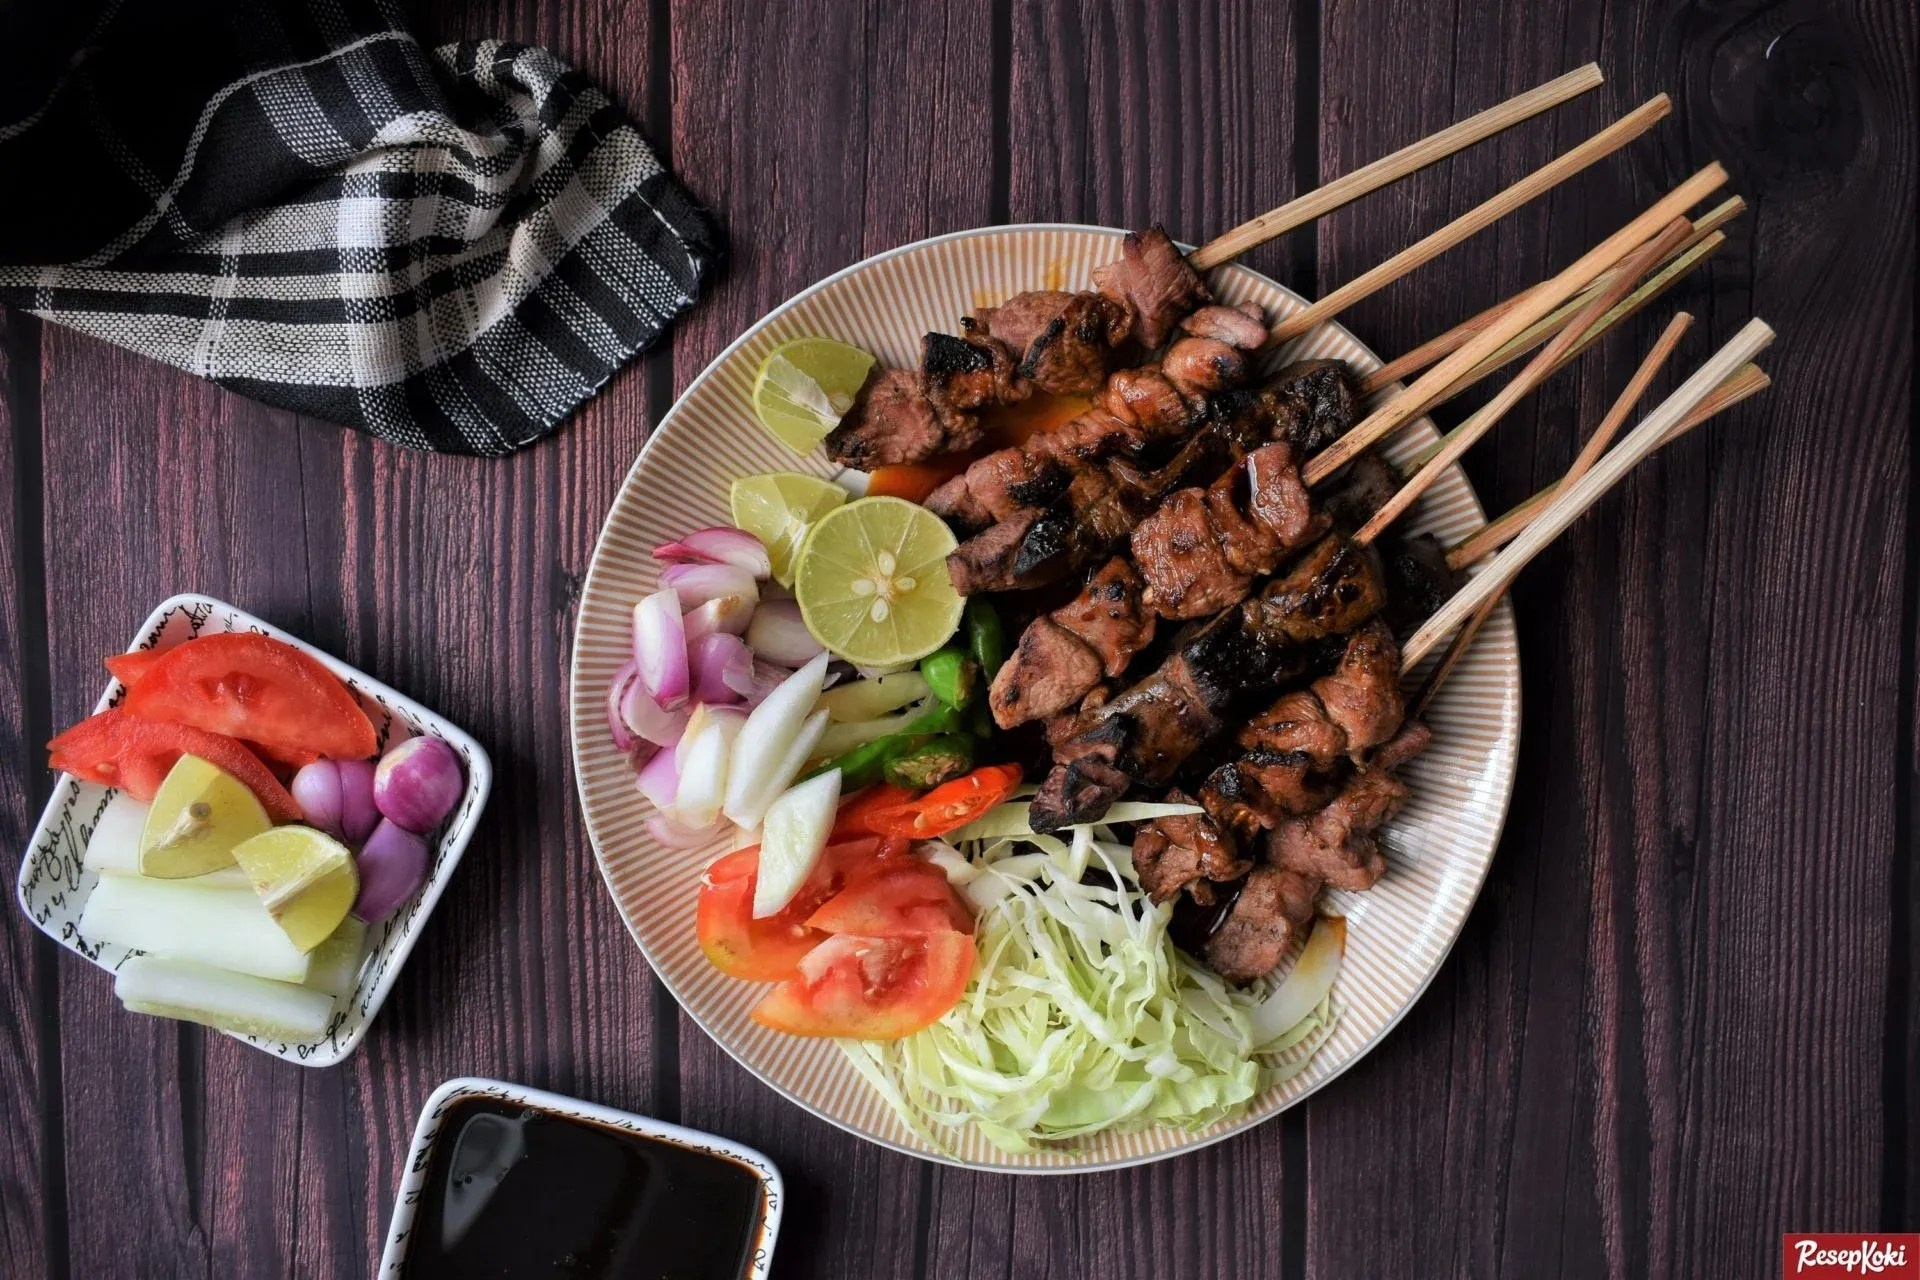sate: (981, 159, 1739, 737)
